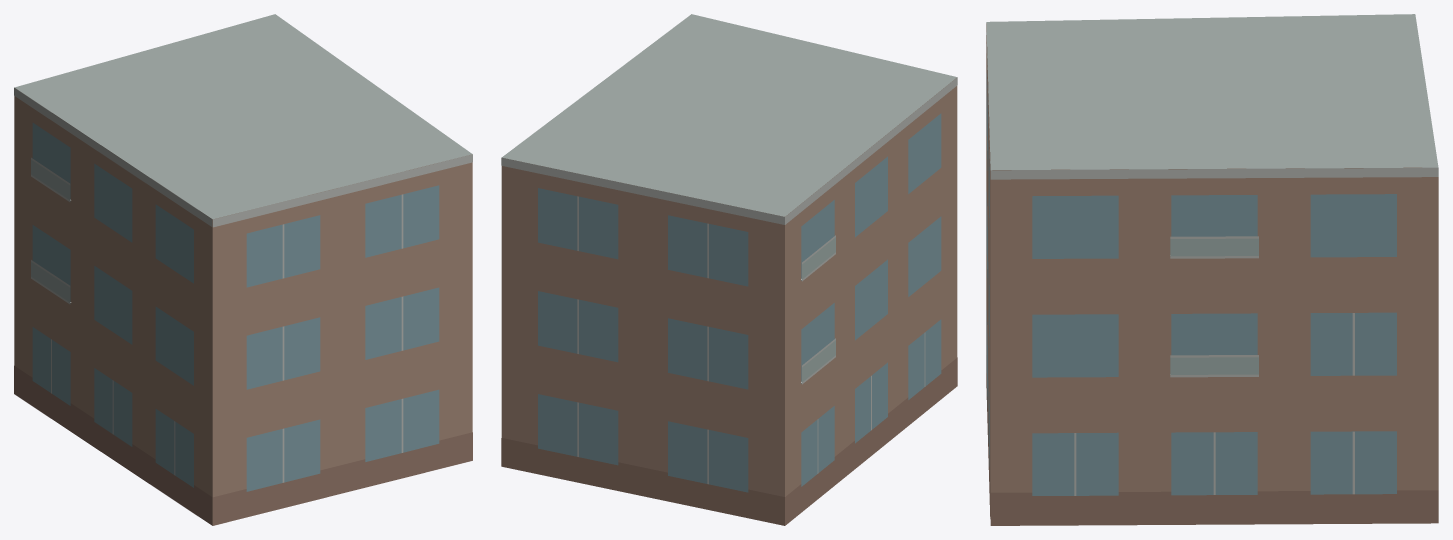
The model's file is survey-upis-32682226.glb.
3 renders of one model, left to right at view 1: azimuth 30°, elevation 25°; view 2: azimuth 150°, elevation 25°; view 3: azimuth 270°, elevation 25°, orthographic. The views are drawn at different scales.
Visible parts, largest first — view 1: survey-upis-32682226.tmp; view 2: survey-upis-32682226.tmp; view 3: survey-upis-32682226.tmp.
Boxes of the visible parts, x1=… form: survey-upis-32682226.tmp: x1=14, y1=14, x2=472, y2=525; survey-upis-32682226.tmp: x1=501, y1=14, x2=957, y2=525; survey-upis-32682226.tmp: x1=986, y1=14, x2=1438, y2=525.
Size of the model in its own units: 8.62 by 9.15 by 10.55.
